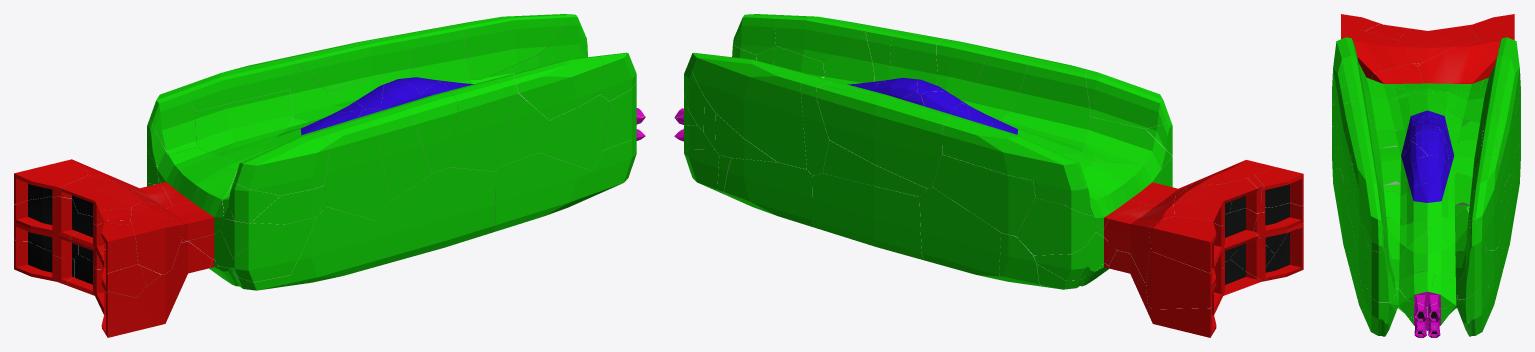
Rendered from Enemy Ship 2 Fractured.fbx.
3 views of the same model, side by side, from view 1: azimuth 30°, elevation 25°; view 2: azimuth 150°, elevation 25°; view 3: azimuth 270°, elevation 25° (orthographic). The views are drawn at different scales.
Visible parts, largest first — view 1: Enemy Ship 2_cell.045, Enemy Ship 2_cell.025, Enemy Ship 2_cell.020, Enemy Ship 2_cell.006, Enemy Ship 2_cell.032, Enemy Ship 2_cell.023, Enemy Ship 2_cell.041, Enemy Ship 2_cell.059, Enemy Ship 2_cell.004, Enemy Ship 2_cell.029, Enemy Ship 2_cell, Enemy Ship 2_cell.094 (+34 smaller); view 2: Enemy Ship 2_cell.032, Enemy Ship 2_cell.039, Enemy Ship 2_cell.071, Enemy Ship 2_cell.025, Enemy Ship 2_cell.065, Enemy Ship 2_cell.006, Enemy Ship 2_cell.090, Enemy Ship 2_cell.072, Enemy Ship 2_cell.086, Enemy Ship 2_cell.059, Enemy Ship 2_cell.053, Enemy Ship 2_cell.099 (+39 smaller); view 3: Enemy Ship 2_cell.025, Enemy Ship 2_cell.008, Enemy Ship 2_cell.069, Enemy Ship 2_cell.032, Enemy Ship 2_cell.041, Enemy Ship 2_cell.095, Enemy Ship 2_cell.085, Enemy Ship 2_cell.055, Enemy Ship 2_cell.036, Enemy Ship 2_cell.014, Enemy Ship 2_cell.006, Enemy Ship 2_cell.094 (+35 smaller).
Part boxes in pixels (x1,y1,x2,y2): Enemy Ship 2_cell.045: (374,167,495,266); Enemy Ship 2_cell.025: (259,117,390,220); Enemy Ship 2_cell.020: (493,153,594,231); Enemy Ship 2_cell.006: (195,89,293,160); Enemy Ship 2_cell.032: (445,14,575,79); Enemy Ship 2_cell.023: (284,207,375,286); Enemy Ship 2_cell.041: (421,80,506,171); Enemy Ship 2_cell.059: (233,133,329,195); Enemy Ship 2_cell.004: (293,30,422,91); Enemy Ship 2_cell.029: (513,56,603,119); Enemy Ship 2_cell: (359,105,431,200); Enemy Ship 2_cell.094: (381,82,457,173); Enemy Ship 2_cell.032: (692,53,806,169); Enemy Ship 2_cell.039: (816,85,950,188); Enemy Ship 2_cell.071: (812,173,923,260); Enemy Ship 2_cell.025: (991,58,1090,155); Enemy Ship 2_cell.065: (919,187,1001,279); Enemy Ship 2_cell.006: (932,153,1078,236); Enemy Ship 2_cell.090: (724,158,813,226); Enemy Ship 2_cell.072: (942,115,1055,180); Enemy Ship 2_cell.086: (1016,198,1095,255); Enemy Ship 2_cell.059: (1085,69,1170,128); Enemy Ship 2_cell.053: (1146,242,1216,309); Enemy Ship 2_cell.099: (1080,117,1172,168); Enemy Ship 2_cell.025: (1333,61,1471,172); Enemy Ship 2_cell.008: (1349,156,1469,233); Enemy Ship 2_cell.069: (1418,40,1499,83); Enemy Ship 2_cell.032: (1466,157,1501,250); Enemy Ship 2_cell.041: (1343,123,1427,217); Enemy Ship 2_cell.095: (1427,141,1504,231); Enemy Ship 2_cell.085: (1341,26,1411,79); Enemy Ship 2_cell.055: (1399,25,1479,63); Enemy Ship 2_cell.036: (1354,208,1427,292); Enemy Ship 2_cell.014: (1427,218,1485,281); Enemy Ship 2_cell.006: (1417,74,1520,150); Enemy Ship 2_cell.094: (1341,101,1439,178).
Bounding box in the file's own units: 802 × 201 × 244.
